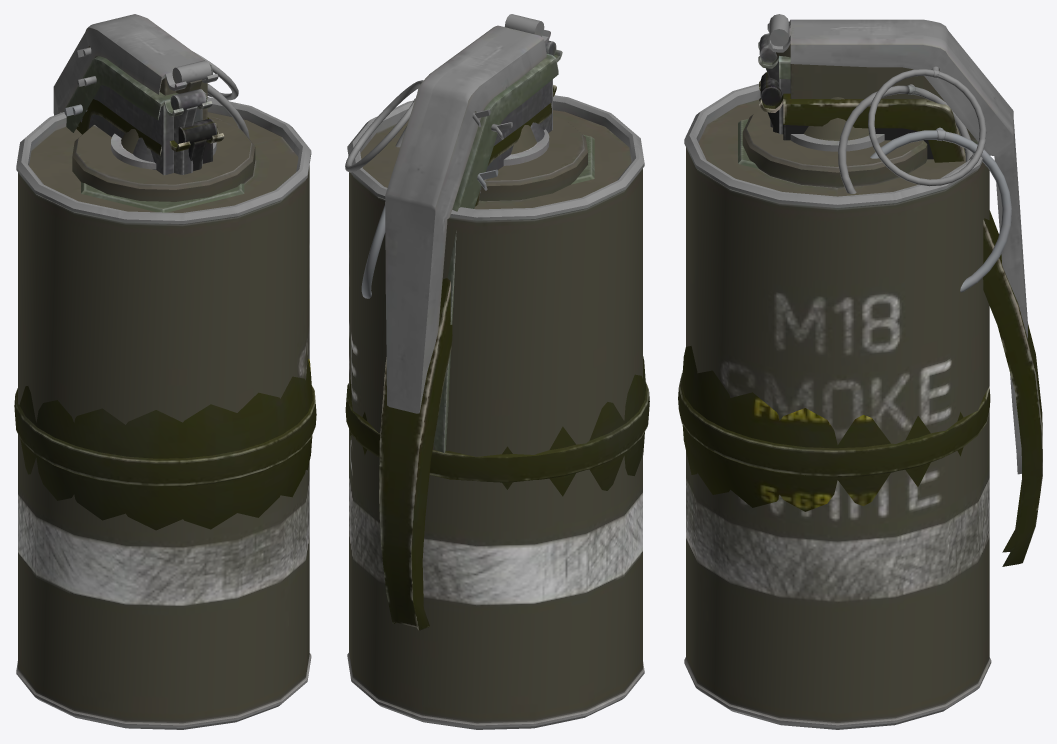
File: grenades.glb
3 views of the same model, side by side, from view 1: azimuth 30°, elevation 25°; view 2: azimuth 150°, elevation 25°; view 3: azimuth 270°, elevation 25° (orthographic). The views are drawn at different scales.
Visible parts, largest first — view 1: smoke_grenade, he_grenade, flashbang, flashbang_pin, smoke_grenade_pin; view 2: smoke_grenade, he_grenade, flashbang, smoke_grenade_pin, he_grenade_pin; view 3: smoke_grenade, he_grenade, he_grenade_pin, smoke_grenade_pin, flashbang_pin, flashbang.
Boxes of the visible parts, x1,y1,x2,y2 form: smoke_grenade: (16, 14, 311, 729); he_grenade: (14, 99, 316, 530); flashbang: (63, 56, 244, 212); flashbang_pin: (77, 76, 249, 138); smoke_grenade_pin: (76, 47, 238, 100); smoke_grenade: (347, 14, 644, 729); he_grenade: (345, 85, 649, 630); flashbang: (433, 40, 594, 452); smoke_grenade_pin: (345, 80, 490, 172); he_grenade_pin: (361, 169, 498, 298); smoke_grenade: (684, 14, 1027, 729); he_grenade: (678, 72, 1042, 566); he_grenade_pin: (870, 127, 1011, 292); smoke_grenade_pin: (868, 66, 986, 186); flashbang_pin: (838, 84, 973, 193); flashbang: (738, 33, 978, 168).
Bounding box in the file's own units: 0.0614 × 0.14 × 0.0717.
Materials: 3 (3 with a texture image).
